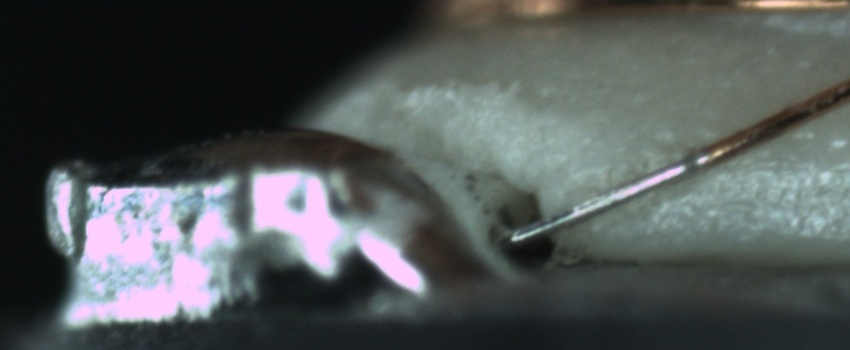DL: (710, 135, 850, 199)
TS: (505, 149, 709, 248)
